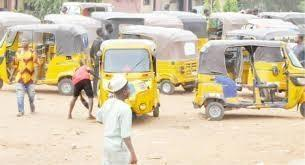keke: (196, 41, 305, 122), (0, 24, 95, 96), (96, 40, 160, 118)
